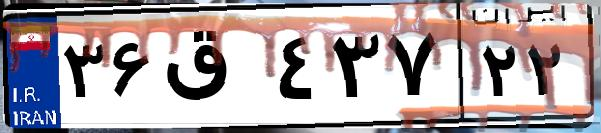2: (475, 38, 525, 113), (525, 38, 570, 115)
3: (330, 28, 385, 110), (57, 26, 110, 100)
4: (270, 28, 330, 110)
6: (110, 28, 158, 98)
7: (385, 28, 445, 110)
ق: (158, 20, 270, 120)
